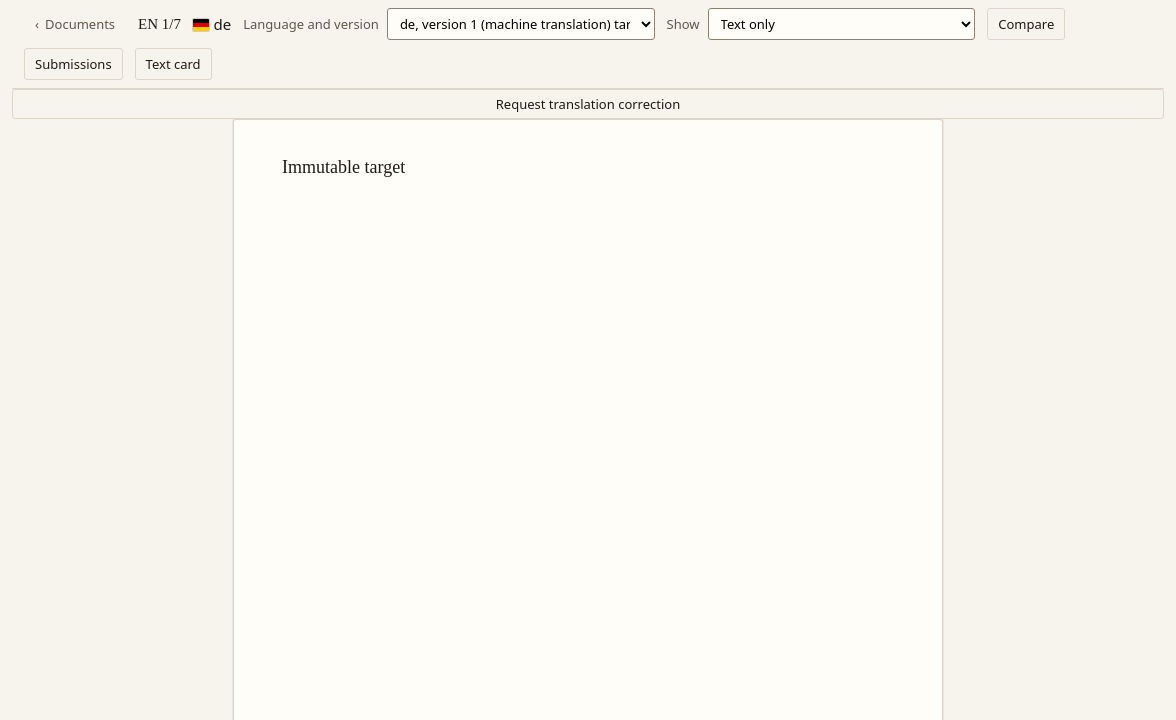
Test: Compare opens a second column with its own selects
The width and height of the screenshot is (1176, 720).
Expected: the text "Immutable target" is shown, [282, 157, 405, 177]
Step 1. Click the button "Compare" → (1026, 24), box [987, 8, 1065, 40]
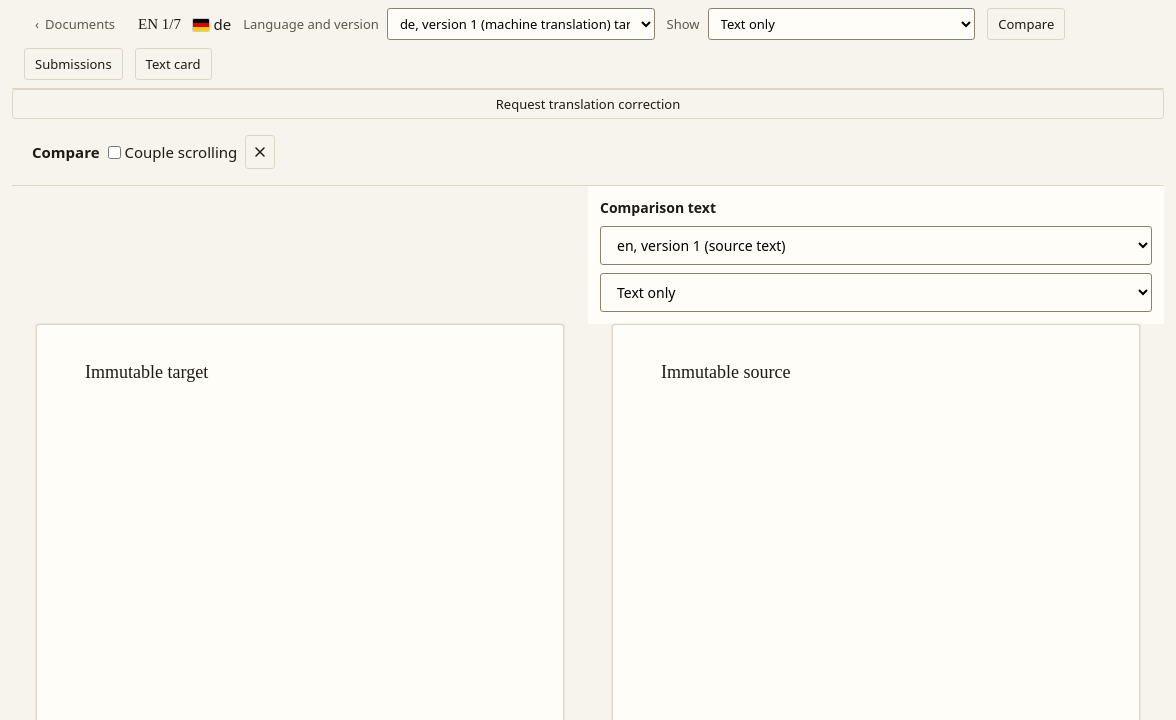
Now the text "Immutable source" is shown, box [661, 362, 790, 382]
Now the dropdown named "Language and version" is shown, box [600, 226, 1152, 265]
Now the dropdown named "Show" is shown, box [600, 273, 1152, 312]
Step 2. Click the button named "Close comparison" → (260, 152), box [245, 135, 275, 169]
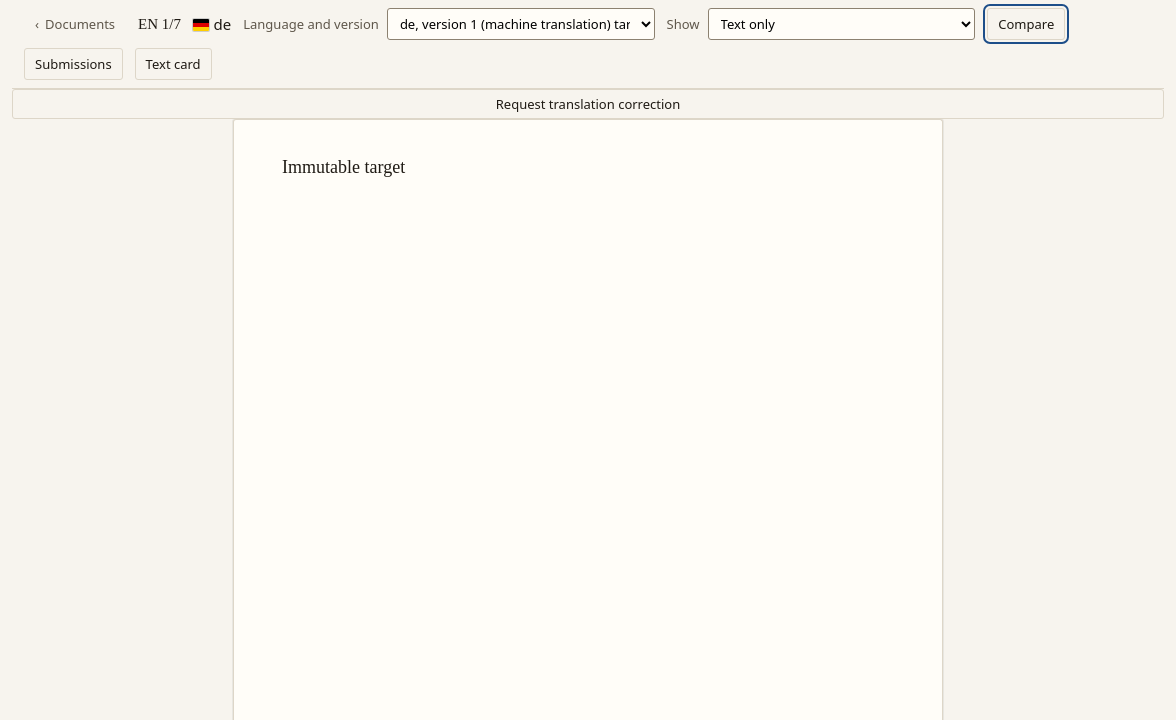
Now the heading "Comparison" is gone
